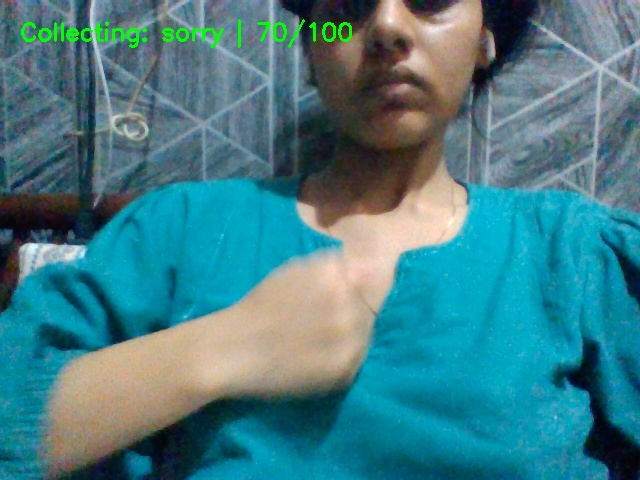sorry: (163, 220, 528, 449)
